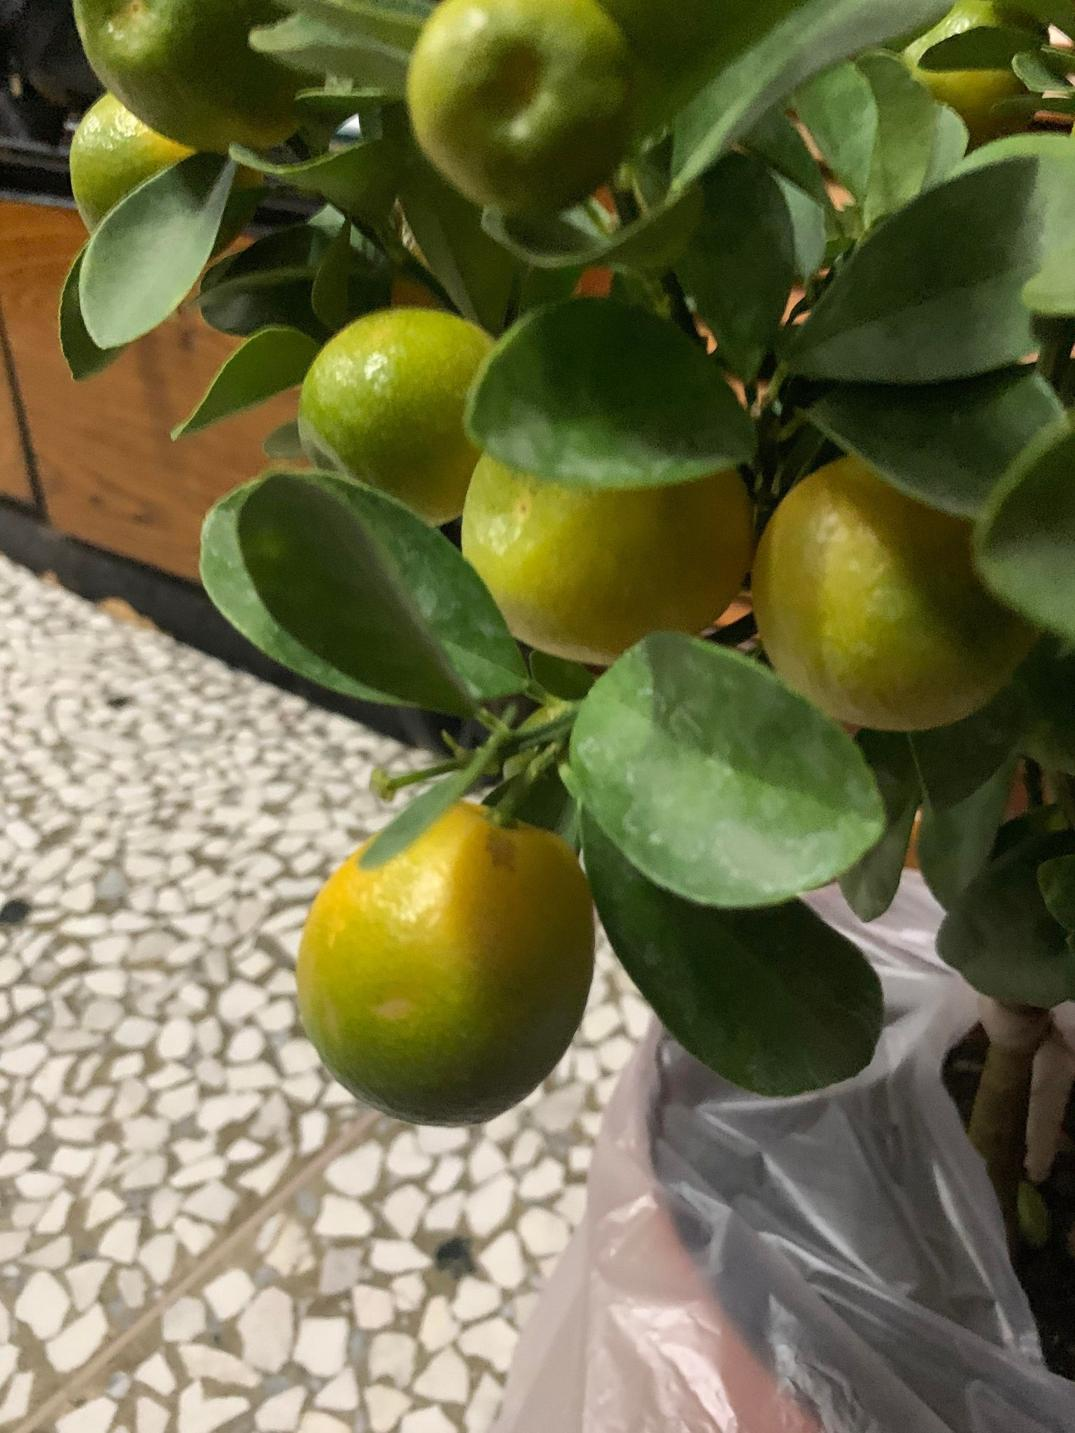Kumquat: (278, 803, 598, 1135), (754, 447, 1038, 729), (463, 440, 750, 655), (294, 304, 535, 528), (402, 1, 653, 209)
